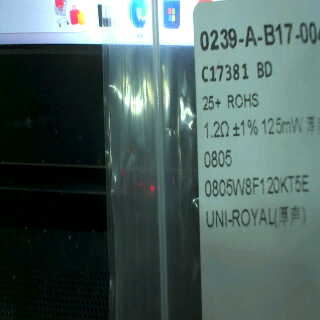1.2R: (202, 120, 234, 172)
